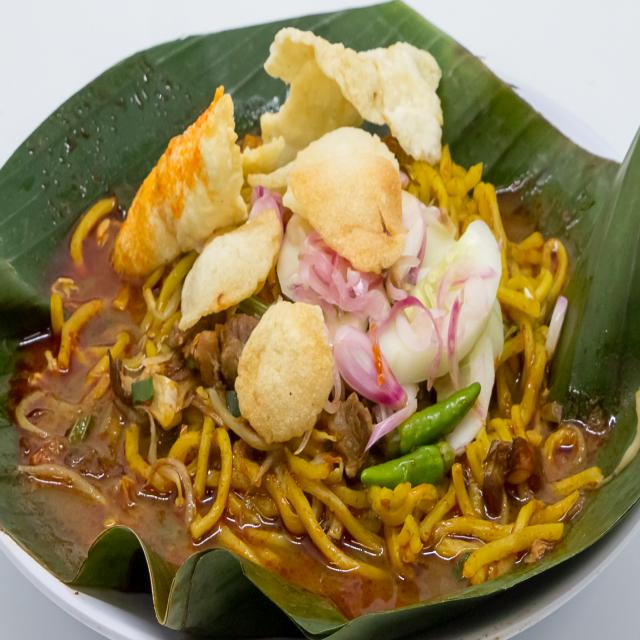Mie-Aceh: (17, 10, 604, 594)
